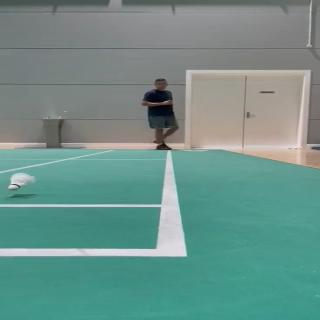Shuttle: (9, 172, 36, 190)
